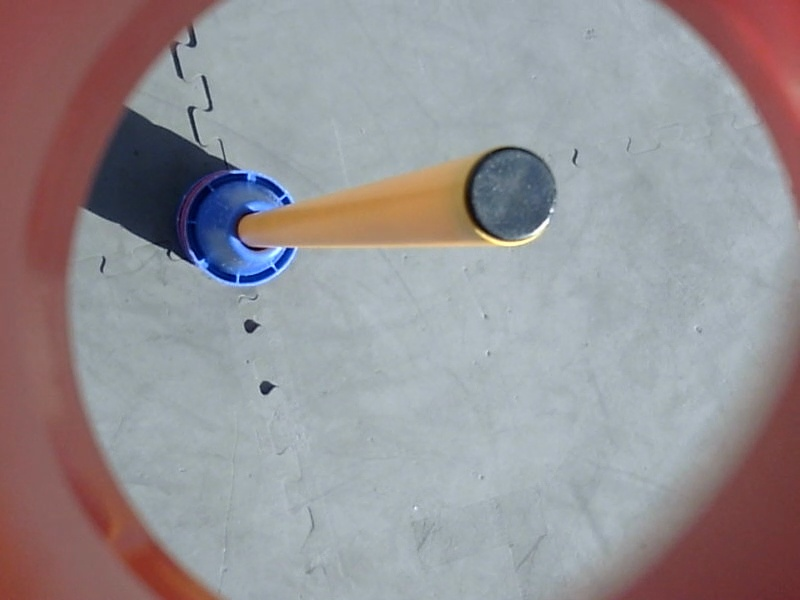tip: (460, 142, 567, 250)
